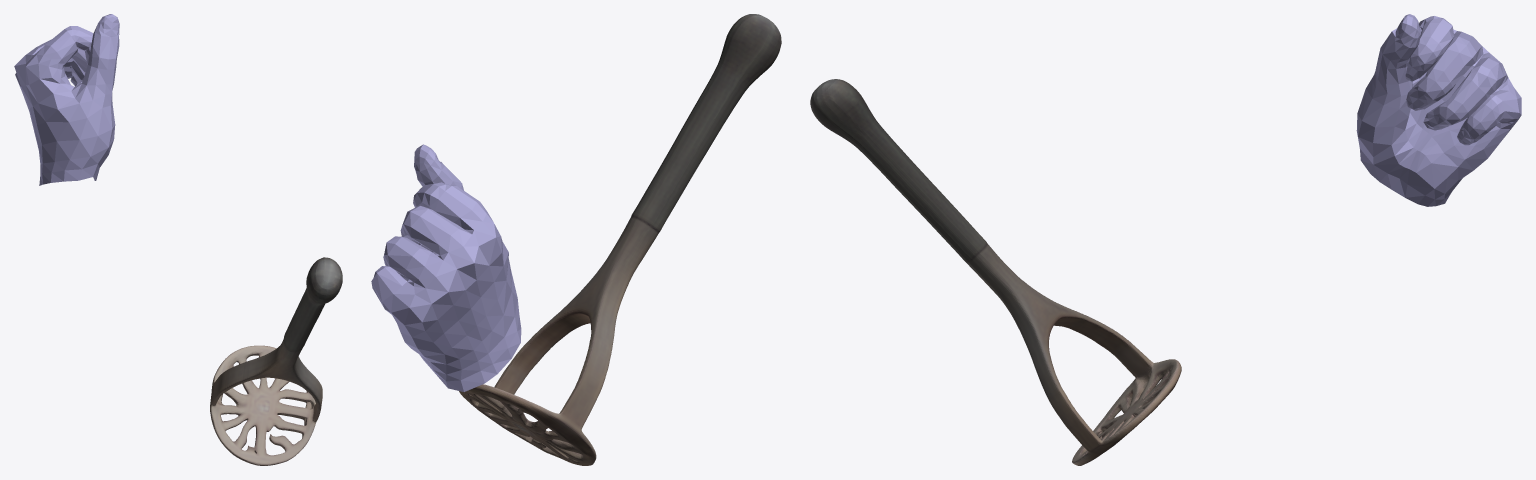
Rendered from frame_0021_source_000021_hand_object.glb.
3 renders of one model, left to right at view 1: azimuth 30°, elevation 25°; view 2: azimuth 150°, elevation 25°; view 3: azimuth 270°, elevation 25°, orthographic. The views are drawn at different scales.
Visible parts, largest first — view 1: world; view 2: world; view 3: world.
Boxes of the visible parts, <box> form: world: <box>14,14,342,465</box>; world: <box>371,14,781,465</box>; world: <box>810,14,1521,465</box>.
Size of the model in its own units: 0.1194 by 0.2601 by 0.3914.
